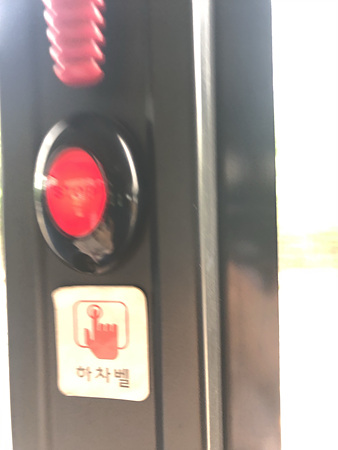bell: (33, 112, 144, 274)
